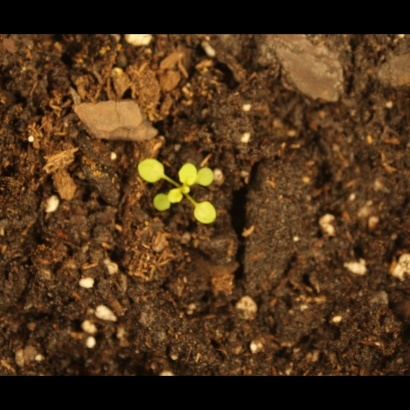leaf: (135, 156, 169, 185), (193, 198, 219, 227), (151, 191, 174, 216), (164, 186, 187, 209), (178, 162, 201, 185), (196, 165, 219, 188)
